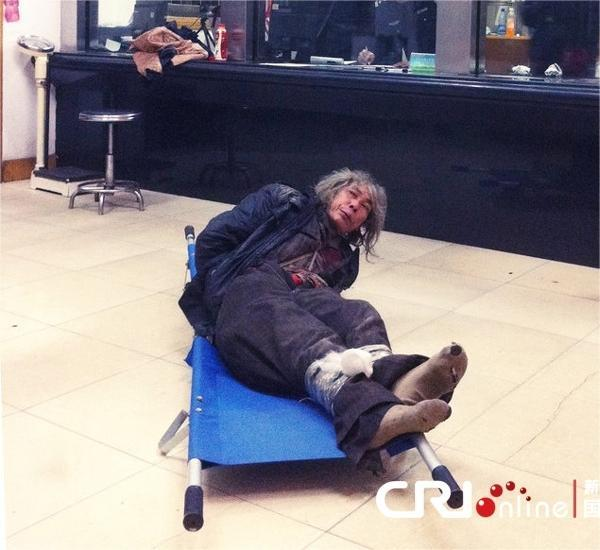down: (188, 158, 471, 464)
